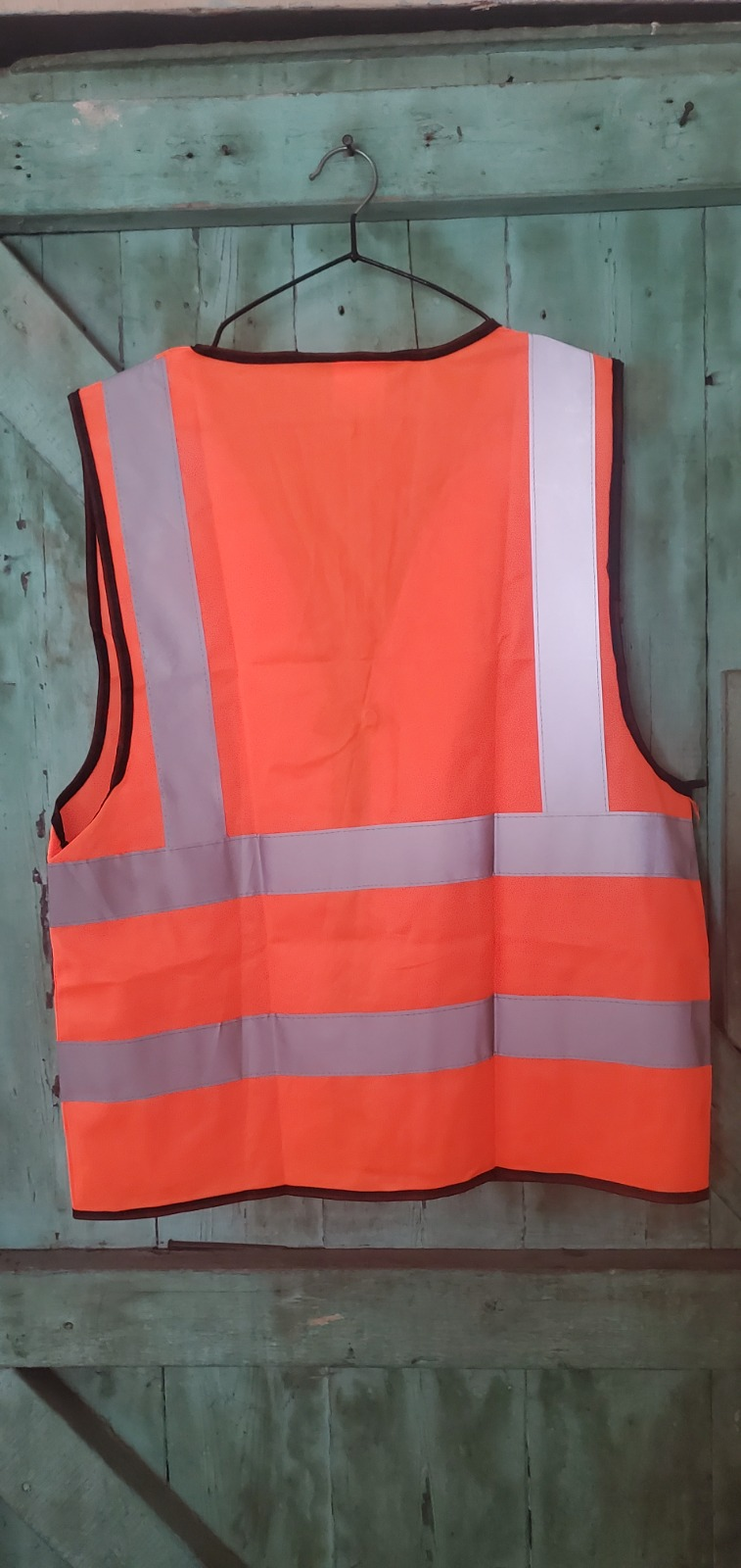vest: (46, 330, 734, 1205)
